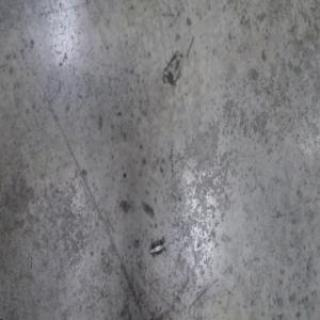Bolttrack_idkeyframe: (149, 238, 166, 260)
